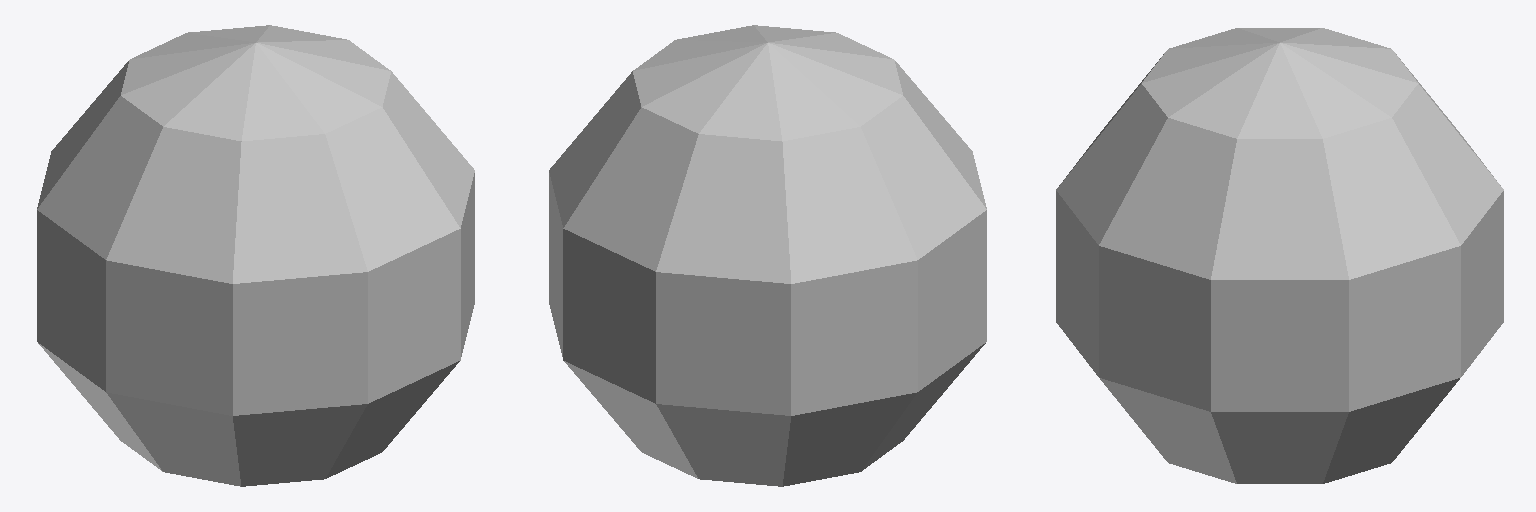
The model's file is Apple Macintosh.obj.
3 renders of one model, left to right at view 1: azimuth 30°, elevation 25°; view 2: azimuth 150°, elevation 25°; view 3: azimuth 270°, elevation 25°, orthographic.
Visible parts, largest first — view 1: Sphere001; view 2: Sphere001; view 3: Sphere001.
Boxes of the visible parts, <box> form: Sphere001: <box>37,25,474,486</box>; Sphere001: <box>549,25,986,486</box>; Sphere001: <box>1056,28,1503,483</box>.
Size of the model in its own units: 1809 by 2000 by 1902.